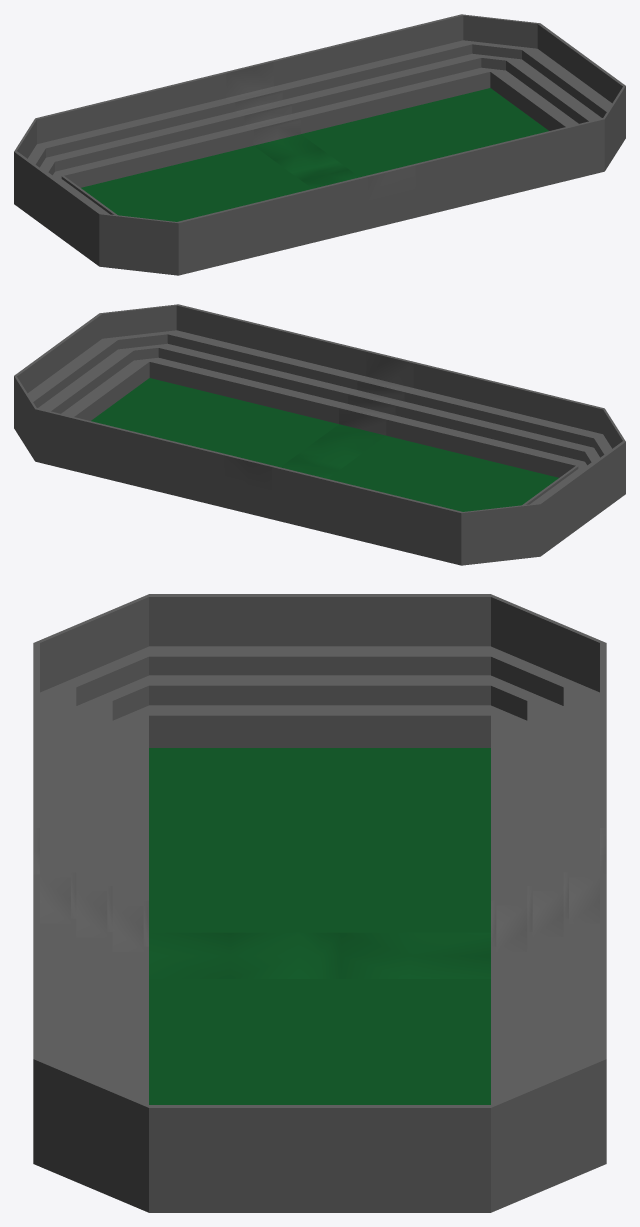
Rendered from centro.glb.
The picture shows the model from 3 angles, top to bottom: view 1: azimuth 30°, elevation 25°; view 2: azimuth 150°, elevation 25°; view 3: azimuth 270°, elevation 25°; orthographic projection. The views are drawn at different scales.
Visible parts, largest first — view 1: regular fundo, regular fundo.001, regular centro fundo; view 2: regular fundo, regular fundo.001, regular centro fundo; view 3: regular fundo.001, regular fundo, regular centro fundo.
Boxes of the visible parts, left/top/right/bottom form: regular fundo: left=272, top=14, right=625, bottom=217; regular fundo.001: left=14, top=72, right=367, bottom=275; regular centro fundo: left=225, top=60, right=415, bottom=229; regular fundo: left=14, top=304, right=367, bottom=507; regular fundo.001: left=272, top=362, right=625, bottom=565; regular centro fundo: left=224, top=350, right=414, bottom=519; regular fundo.001: left=33, top=594, right=606, bottom=932; regular fundo: left=33, top=874, right=606, bottom=1212; regular centro fundo: left=33, top=828, right=606, bottom=978.
Bounding box in the file's own units: 711 × 67.71 × 335.
